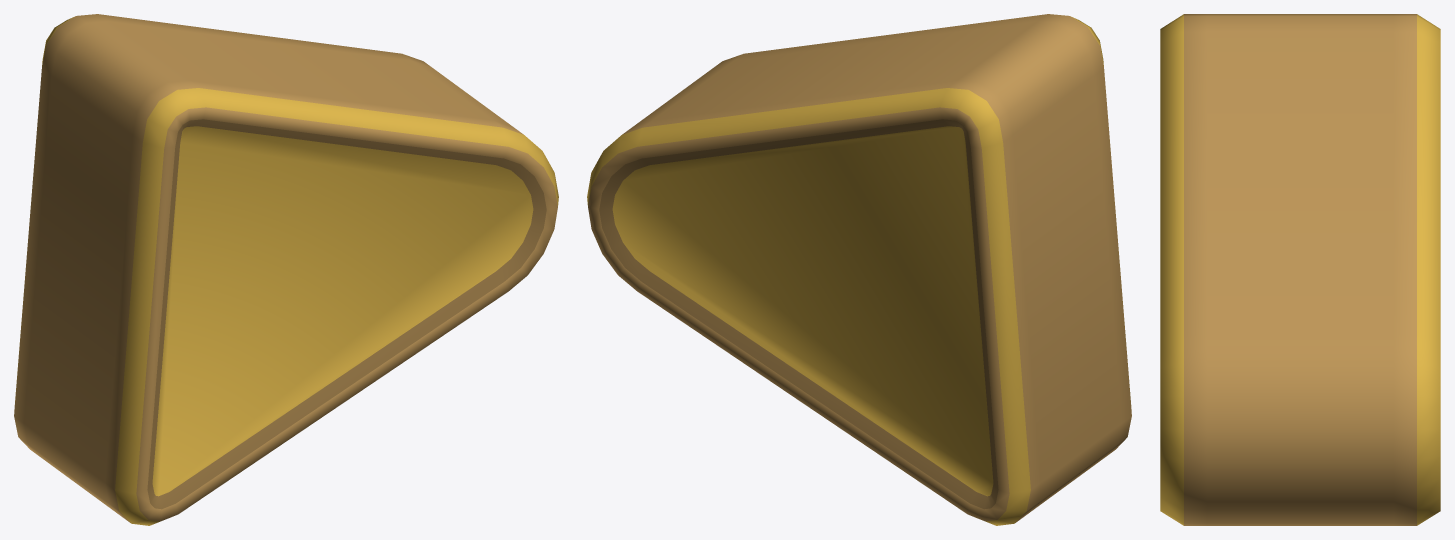
File: menu_arrow.glb
3 views of the same model, side by side, from view 1: azimuth 30°, elevation 25°; view 2: azimuth 150°, elevation 25°; view 3: azimuth 270°, elevation 25° (orthographic). The views are drawn at different scales.
Parts seen in each view (by area): view 1: arrow; view 2: arrow; view 3: arrow.
Part boxes in pixels (<box>): arrow: <box>14,14,558,525</box>; arrow: <box>587,14,1131,525</box>; arrow: <box>1160,14,1440,525</box>.
Size of the model in its own units: 4 by 3.7 by 1.9.
